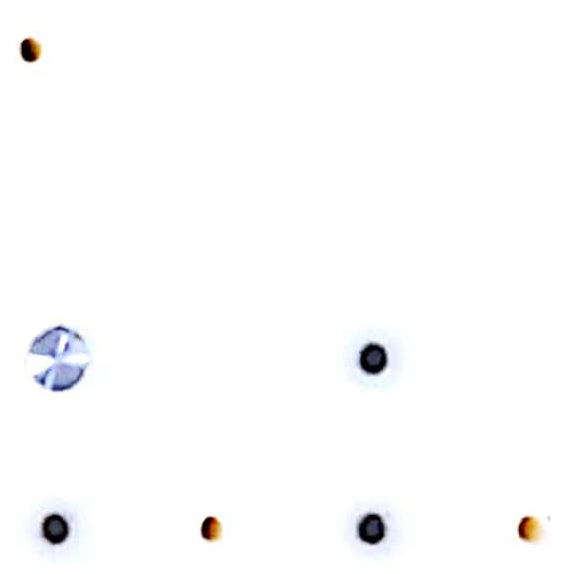abnormal: (10, 314, 104, 409)
cancer: (329, 304, 425, 400), (19, 491, 103, 571), (317, 489, 406, 564)
normal: (505, 493, 565, 555), (183, 501, 241, 560), (5, 18, 57, 78)
